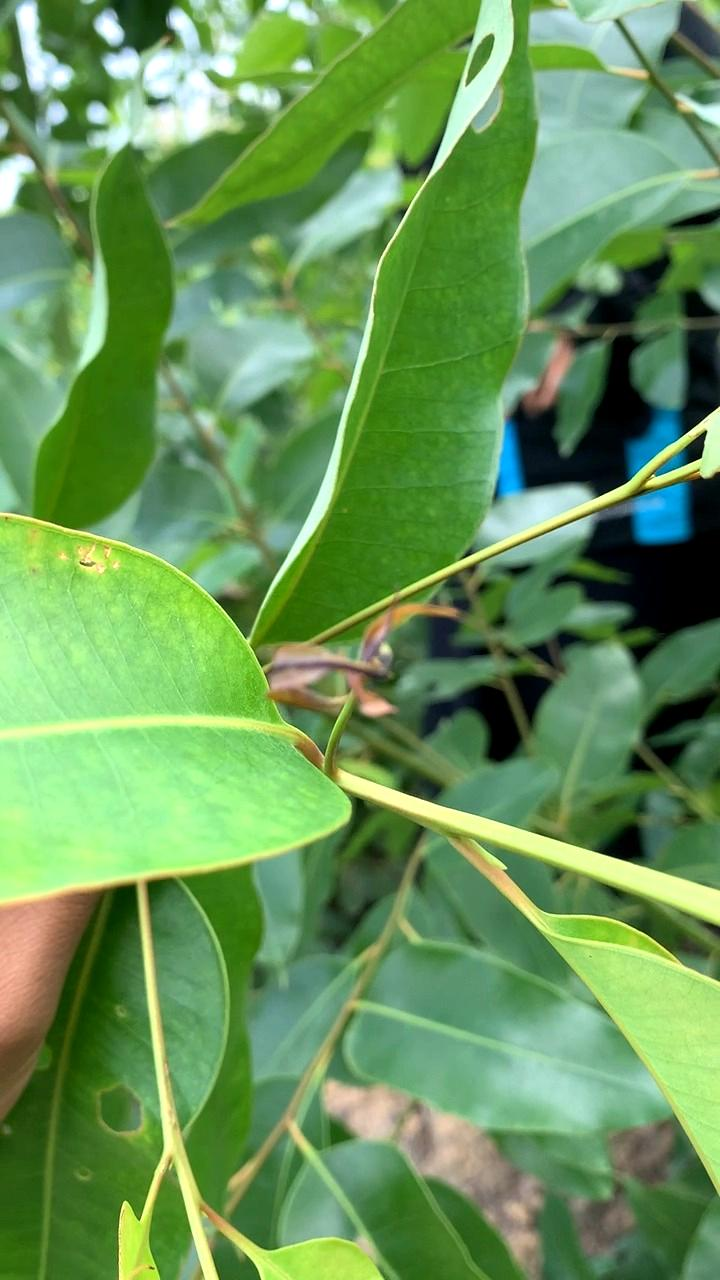Helopeltis-Withered Sprout: (247, 568, 473, 767)
